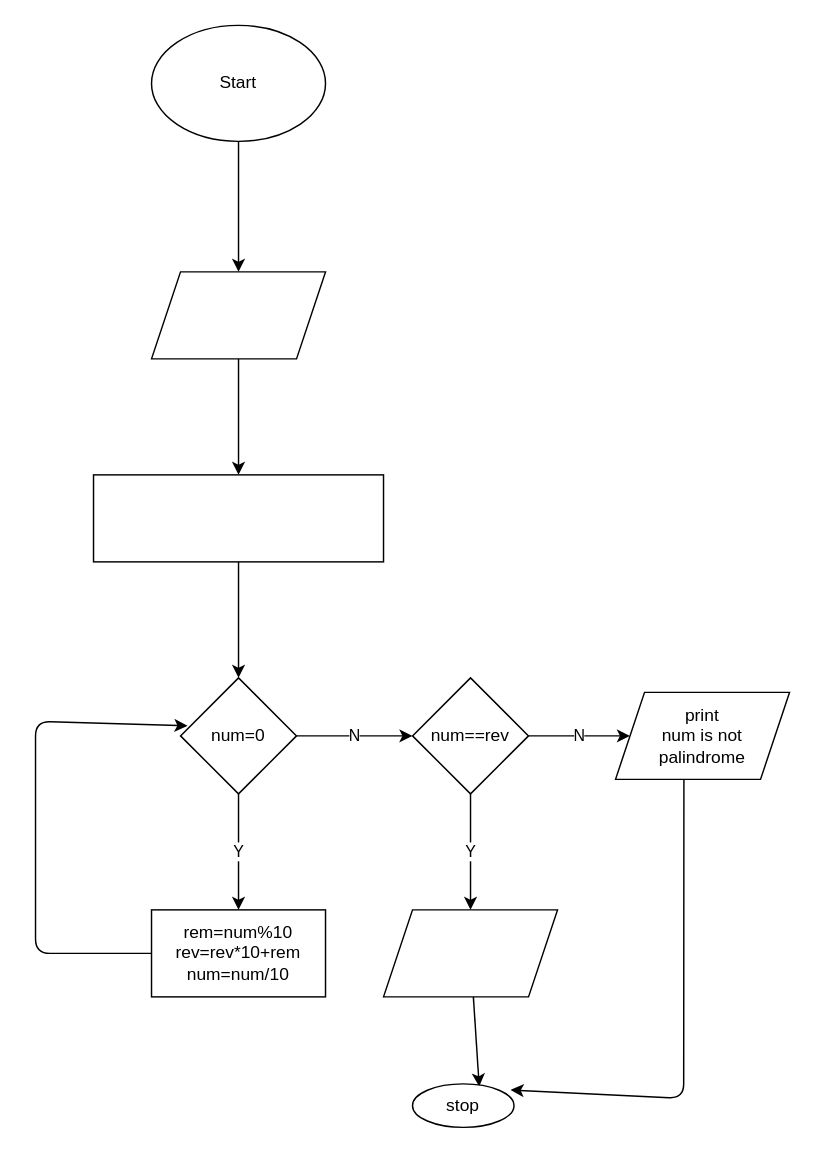
Some shapes in this 815 by 1153 pixel diagram are drawn without their labels. The shapes that lost their labels are listed below. From the top down, each one's centre as x and y in pixels, then its label:
At pixel 238 314: "num".
At pixel 238 517: "temp = num rev=o".
At pixel 470 952: "print num is palindrome".
